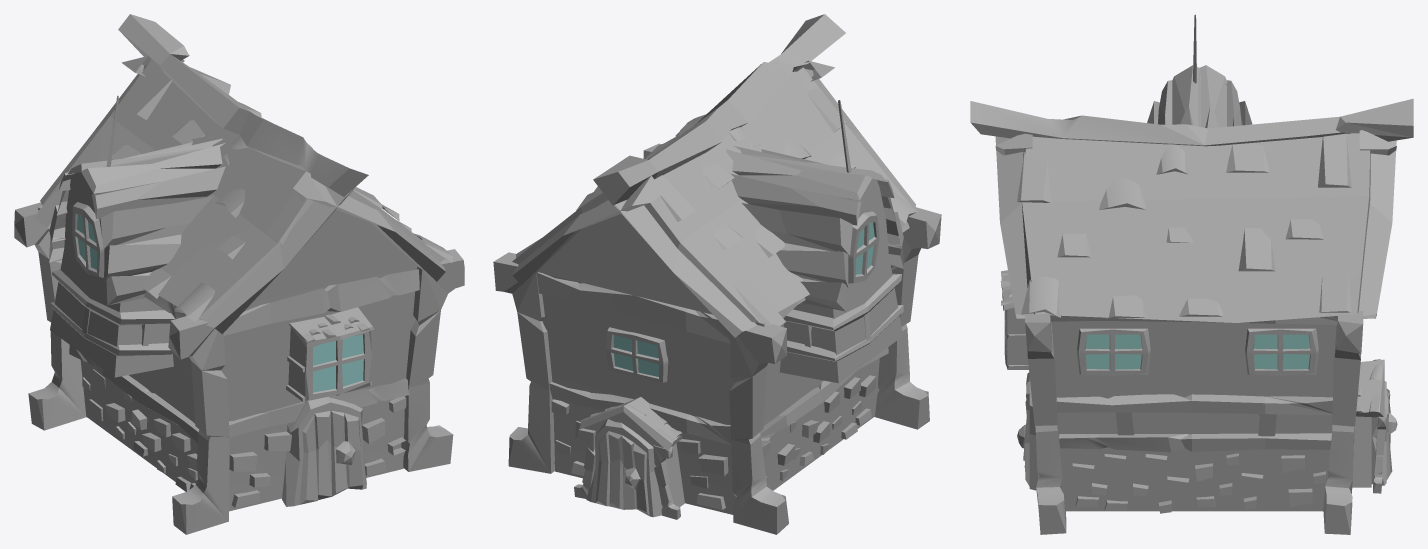
Rendered from SM_L_Home_complete.fbx.
3 renders of one model, left to right at view 1: azimuth 30°, elevation 25°; view 2: azimuth 150°, elevation 25°; view 3: azimuth 270°, elevation 25°, orthographic. The views are drawn at different scales.
Parts seen in each view (by area): view 1: SM_Modular_Home_ass; view 2: SM_Modular_Home_ass; view 3: SM_Modular_Home_ass.
Boxes of the visible parts, x1,y1,x2,y2 form: SM_Modular_Home_ass: (14,14,464,534); SM_Modular_Home_ass: (493,14,941,534); SM_Modular_Home_ass: (970,14,1413,534).
Bounding box in the file's own units: 457 × 540 × 551.
